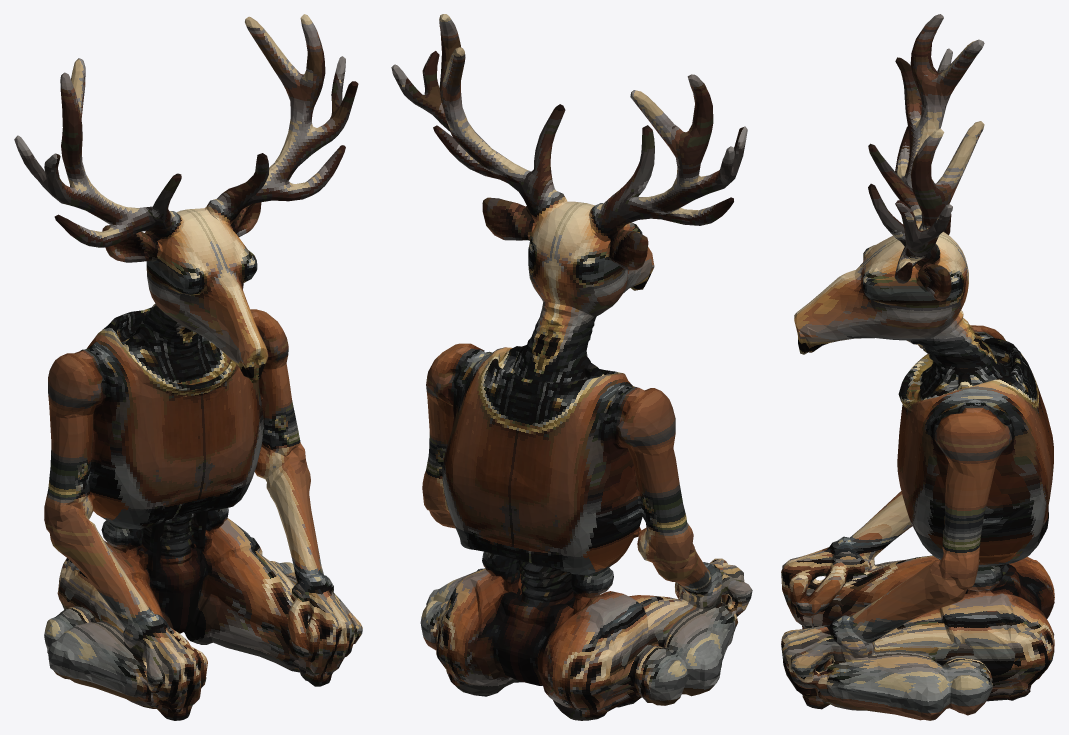
File: stag.glb
3 views of the same model, side by side, from view 1: azimuth 30°, elevation 25°; view 2: azimuth 150°, elevation 25°; view 3: azimuth 270°, elevation 25° (orthographic). The views are drawn at different scales.
Visible parts, largest first — view 1: Body, Head, Lid; view 2: Body, Head, Lid; view 3: Body, Head, Lid.
Part boxes in pixels (<box>): Body: <box>14,14,362,720</box>; Head: <box>74,16,295,368</box>; Lid: <box>160,190,237,253</box>; Body: <box>391,14,752,720</box>; Head: <box>454,47,676,338</box>; Lid: <box>533,172,618,244</box>; Body: <box>781,14,1054,720</box>; Head: <box>794,39,984,347</box>; Lid: <box>878,195,960,267</box>.
Bounding box in the file's own units: 1.47 × 2.62 × 1.07.
2 materials, 1 textured.
